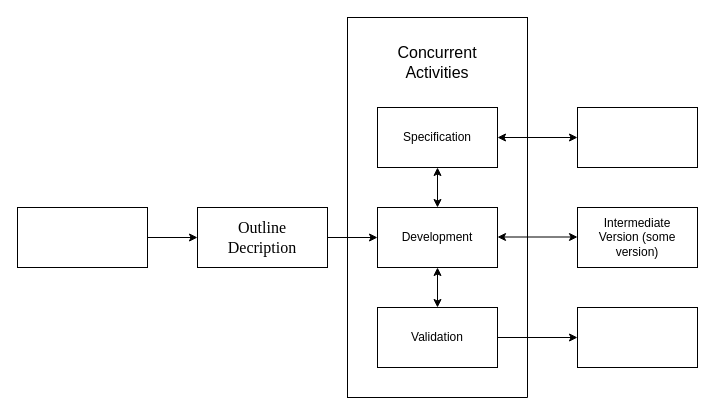
Some shapes in this 715 by 415 pixel diagram are drawn without their labels. Here are the shapes that lost their labels. From the top down, the centre of each, then its label:
pixel 637 137: Initial Version
pixel 82 237: Collect Requirements
pixel 637 337: Final Version
